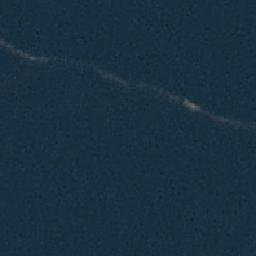debris: (3, 48, 45, 61), (175, 97, 207, 111), (213, 115, 238, 126), (106, 75, 130, 82)
